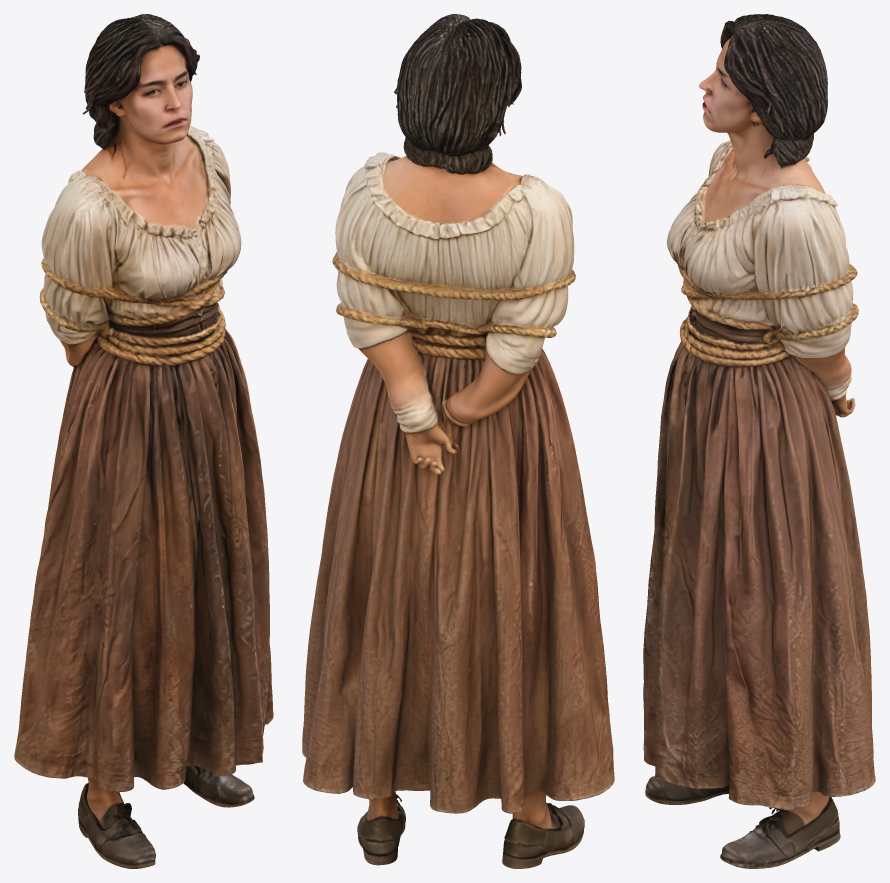
Rendered from fusilamiento_agustina.glb.
The picture shows the model from 3 angles, left to right: view 1: azimuth 30°, elevation 25°; view 2: azimuth 150°, elevation 25°; view 3: azimuth 270°, elevation 25°; orthographic projection. The views are drawn at different scales.
Parts seen in each view (by area): view 1: model; view 2: model; view 3: model.
Boxes of the visible parts, x1,y1,x2,y2 form: model: (14, 14, 273, 868); model: (302, 14, 614, 868); model: (643, 14, 875, 868).
Bounding box in the file's own units: 0.6594 × 1.9 × 0.4951.
1 material, 1 textured.
